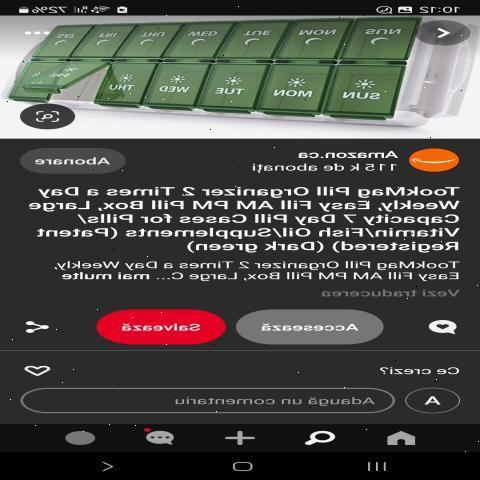PillBox: (0, 14, 477, 135)
